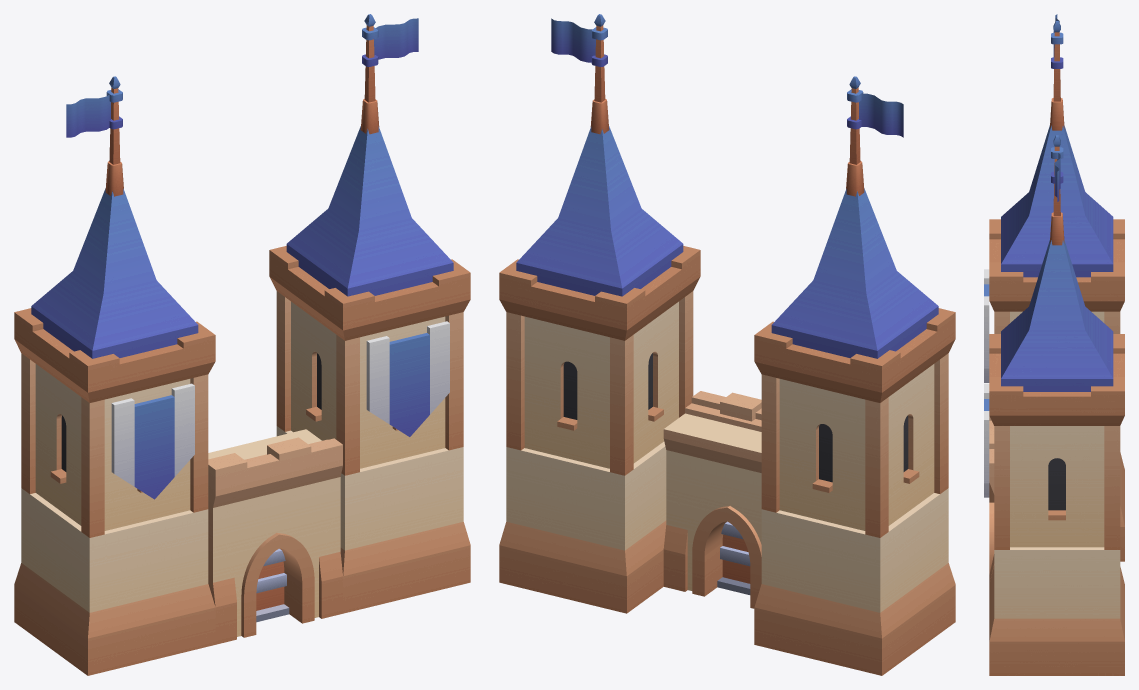
The model's file is gatehouse.glb.
3 views of the same model, side by side, from view 1: azimuth 30°, elevation 25°; view 2: azimuth 150°, elevation 25°; view 3: azimuth 270°, elevation 25° (orthographic). The views are drawn at different scales.
Parts seen in each view (by area): view 1: gatehouse_body, gate_mesh; view 2: gatehouse_body, gate_mesh; view 3: gatehouse_body.
Part boxes in pixels (x1=…): gatehouse_body: x1=14, y1=14, x2=470, y2=675; gate_mesh: x1=256, y1=548, x2=289, y2=622; gatehouse_body: x1=499, y1=14, x2=955, y2=675; gate_mesh: x1=717, y1=521, x2=750, y2=594; gatehouse_body: x1=984, y1=14, x2=1124, y2=675.
Size of the model in its own units: 3 by 4.17 by 1.04.
1 material, 1 textured.
